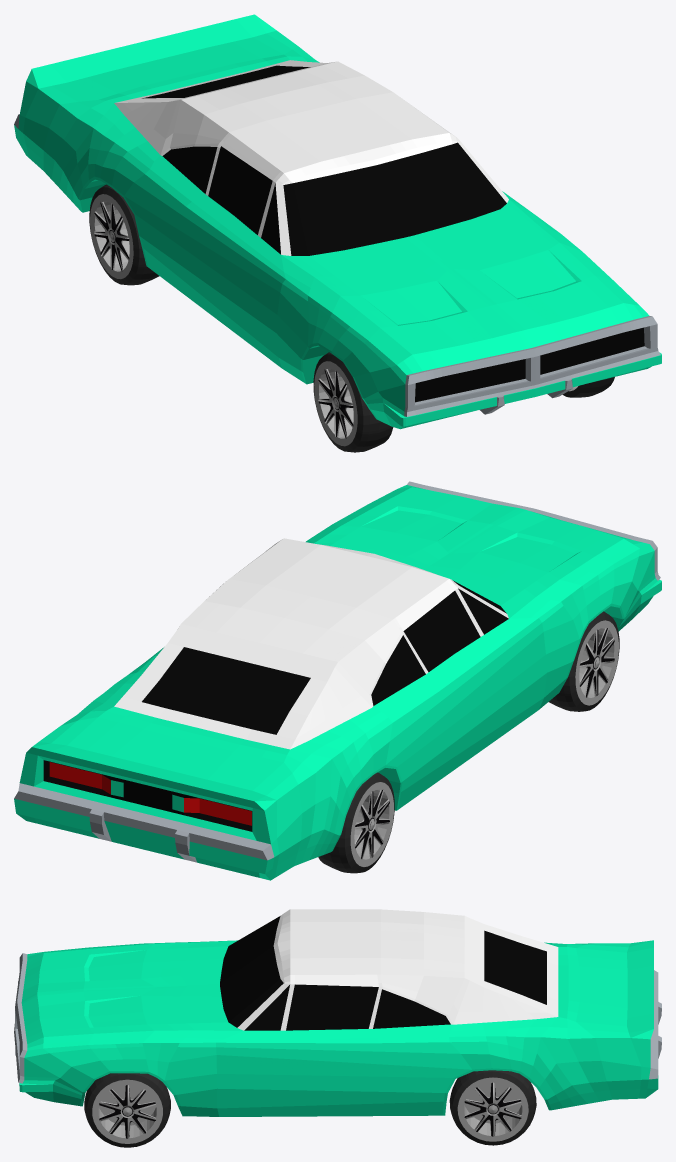
File: green.gltf
3 views of the same model, one above another, from view 1: azimuth 30°, elevation 25°; view 2: azimuth 150°, elevation 25°; view 3: azimuth 270°, elevation 25° (orthographic). The views are drawn at different scales.
Visible parts, largest first — view 1: buffer-0-mesh-0 1, buffer-0-mesh-0, buffer-0-mesh-0 5, buffer-0-mesh-0 3, buffer-0-mesh-0 6, buffer-0-mesh-0 2, buffer-0-mesh-0 8, buffer-0-mesh-0 7; view 2: buffer-0-mesh-0 1, buffer-0-mesh-0, buffer-0-mesh-0 5, buffer-0-mesh-0 3, buffer-0-mesh-0 6, buffer-0-mesh-0 8, buffer-0-mesh-0 2, buffer-0-mesh-0 4, buffer-0-mesh-0 7; view 3: buffer-0-mesh-0 1, buffer-0-mesh-0, buffer-0-mesh-0 5, buffer-0-mesh-0 6, buffer-0-mesh-0 8, buffer-0-mesh-0 3, buffer-0-mesh-0 7.
Boxes of the visible parts, x1,y1,x2,y2 form: buffer-0-mesh-0 1: [14, 14, 661, 429]; buffer-0-mesh-0: [114, 60, 508, 255]; buffer-0-mesh-0 5: [142, 65, 506, 255]; buffer-0-mesh-0 3: [14, 114, 660, 416]; buffer-0-mesh-0 6: [90, 194, 577, 446]; buffer-0-mesh-0 2: [415, 327, 644, 402]; buffer-0-mesh-0 8: [89, 184, 614, 452]; buffer-0-mesh-0 7: [94, 202, 353, 438]; buffer-0-mesh-0 1: [14, 485, 661, 880]; buffer-0-mesh-0: [114, 538, 508, 749]; buffer-0-mesh-0 5: [142, 580, 508, 734]; buffer-0-mesh-0 3: [14, 481, 660, 862]; buffer-0-mesh-0 6: [350, 620, 618, 866]; buffer-0-mesh-0 8: [318, 611, 619, 873]; buffer-0-mesh-0 2: [43, 760, 252, 831]; buffer-0-mesh-0 4: [49, 762, 251, 825]; buffer-0-mesh-0 7: [355, 628, 614, 858]; buffer-0-mesh-0 1: [19, 940, 658, 1116]; buffer-0-mesh-0: [237, 909, 558, 1030]; buffer-0-mesh-0 5: [220, 916, 546, 1030]; buffer-0-mesh-0 6: [92, 1077, 528, 1143]; buffer-0-mesh-0 8: [84, 1070, 536, 1147]; buffer-0-mesh-0 3: [14, 953, 661, 1083]; buffer-0-mesh-0 7: [99, 1082, 521, 1138].
Size of the model in its own units: 0.0395 by 0.0273 by 0.1.
